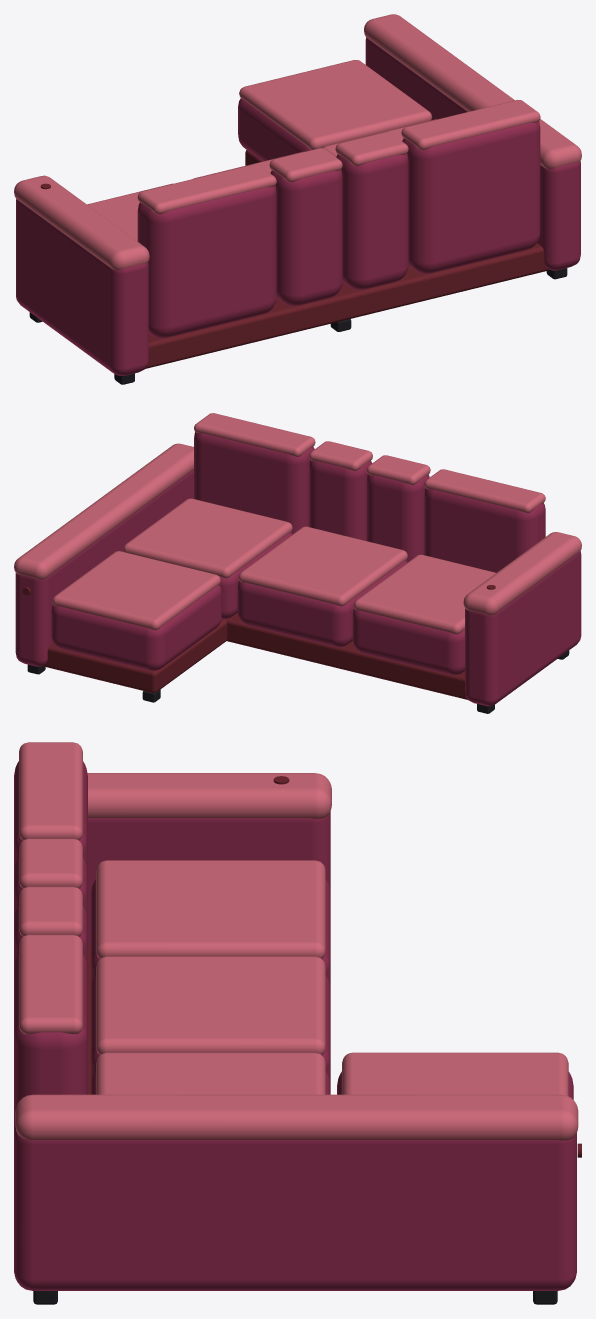
Rendered from prop.props_lounge.sofa_l.glb.
3 views of the same model, one above another, from view 1: azimuth 30°, elevation 25°; view 2: azimuth 150°, elevation 25°; view 3: azimuth 270°, elevation 25° (orthographic). The views are drawn at different scales.
Parts seen in each view (by area): view 1: prop.props_lounge.sofa_l; view 2: prop.props_lounge.sofa_l; view 3: prop.props_lounge.sofa_l.
Part boxes in pixels (bbox=[...]): prop.props_lounge.sofa_l: bbox=[14, 14, 581, 384]; prop.props_lounge.sofa_l: bbox=[14, 413, 581, 713]; prop.props_lounge.sofa_l: bbox=[14, 742, 581, 1304].
Bounding box in the file's own units: 2.31 × 0.824 × 1.61.
